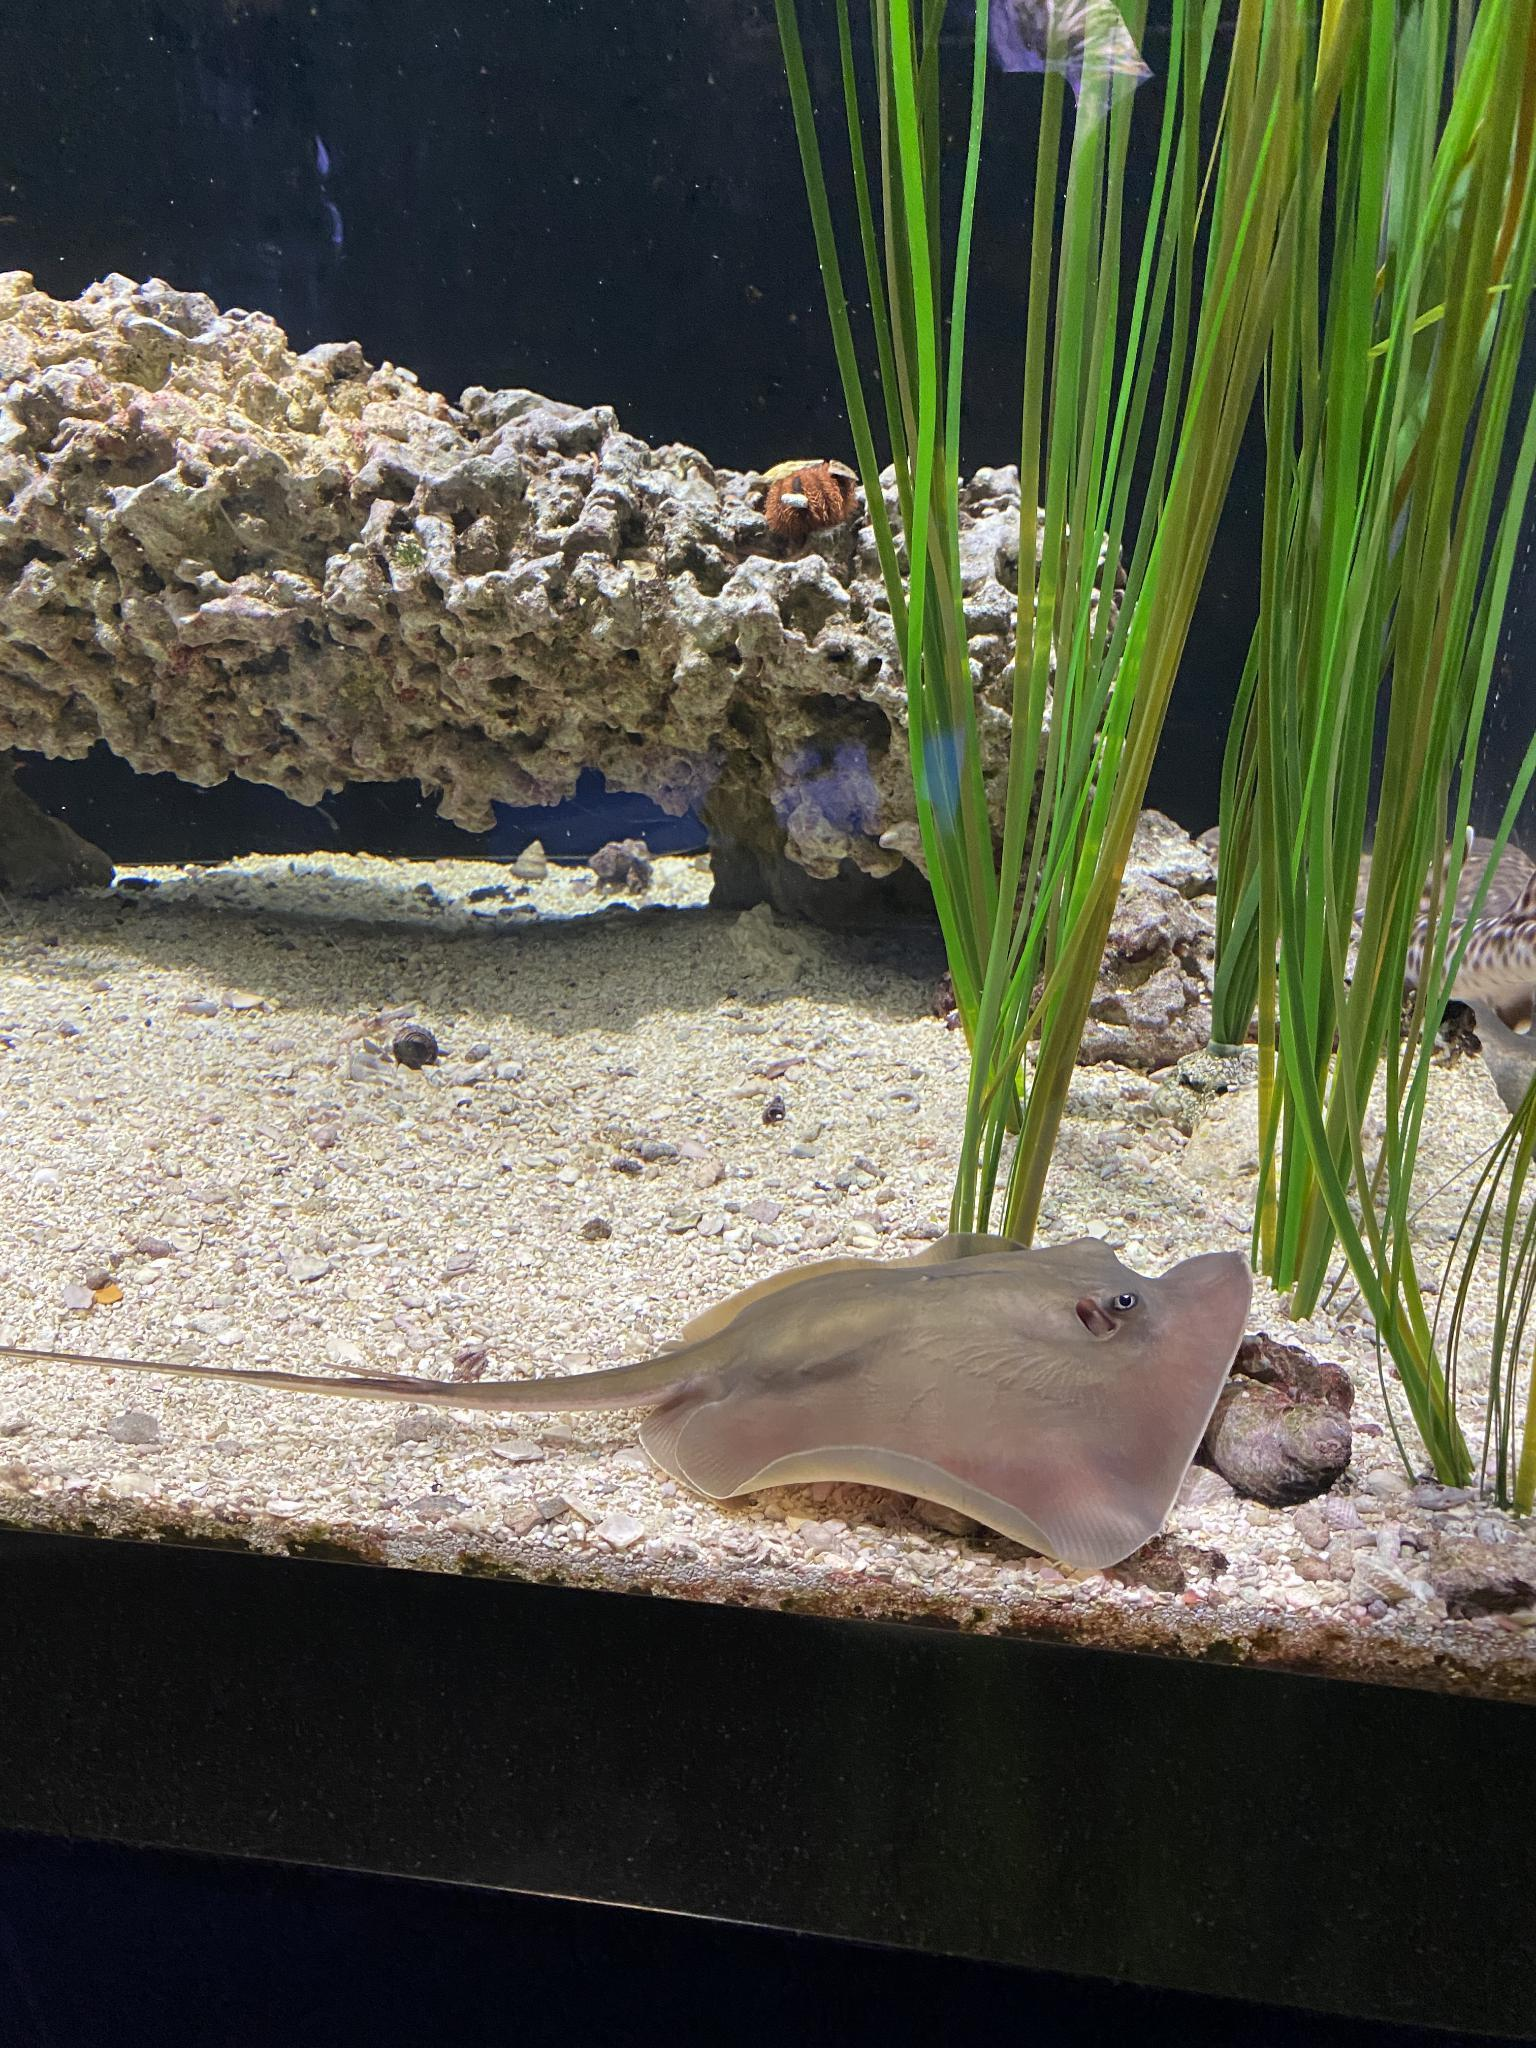stingray: (641, 1243, 1255, 1577)
